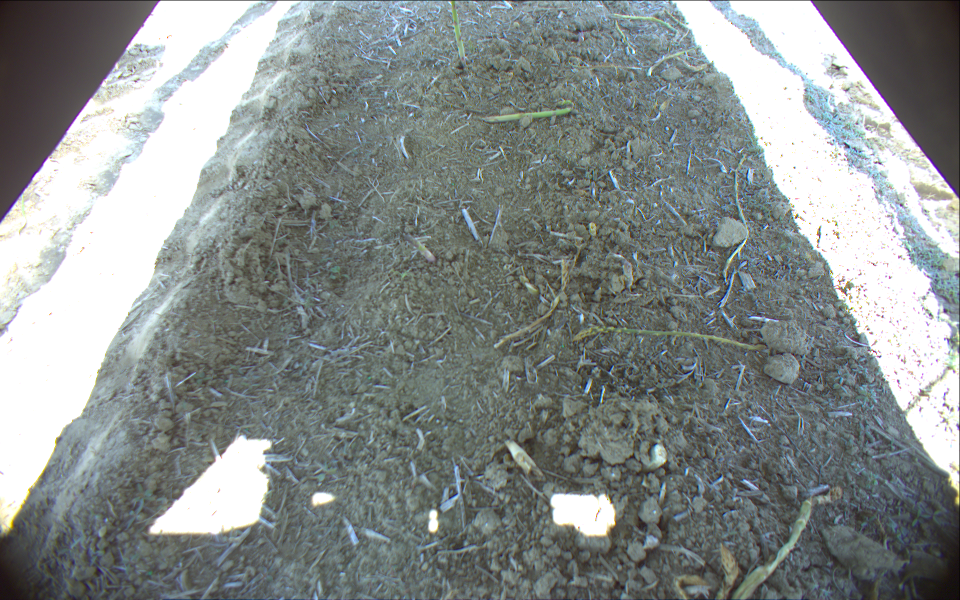aspa: (737, 498, 814, 600), (571, 327, 768, 352), (721, 152, 750, 284), (479, 98, 575, 124), (647, 46, 706, 74), (714, 543, 739, 600), (449, 1, 468, 68), (613, 13, 676, 33), (665, 10, 691, 47)
